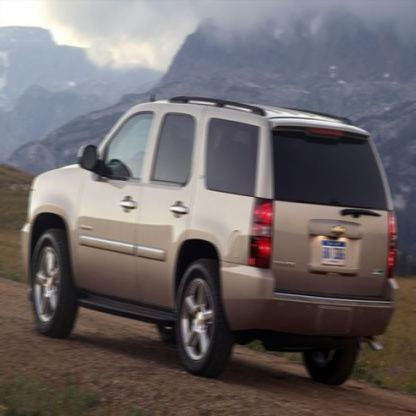Vehicle: (21, 94, 398, 390)
